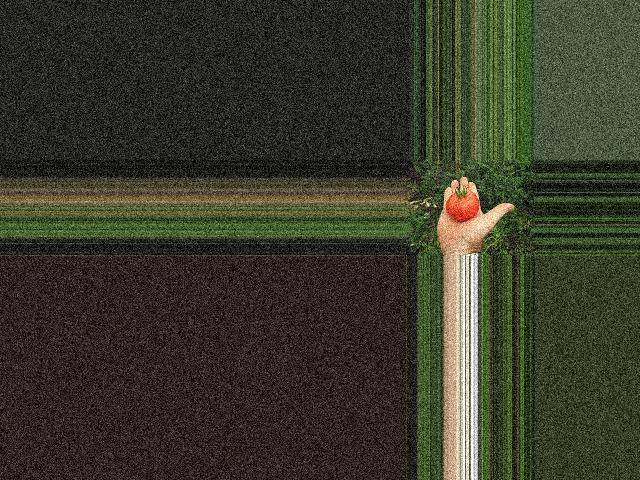tomato: (444, 191, 479, 221)
